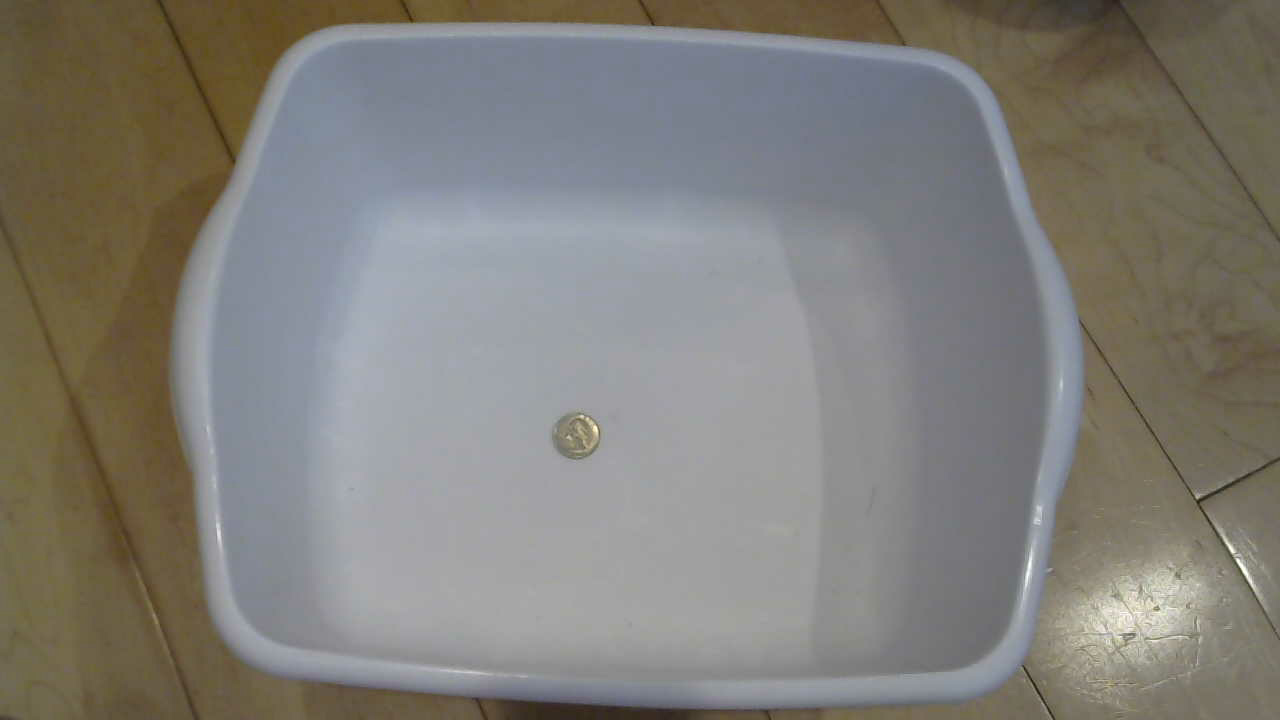coin: (549, 406, 613, 465)
